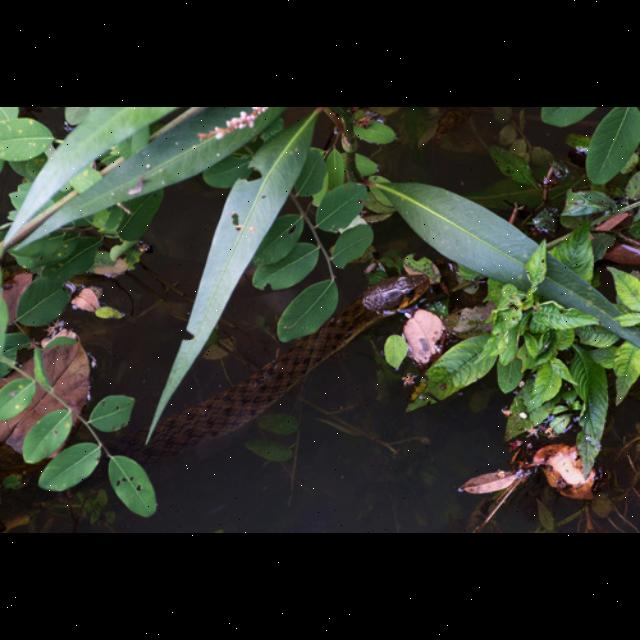snake: (145, 271, 431, 457)
